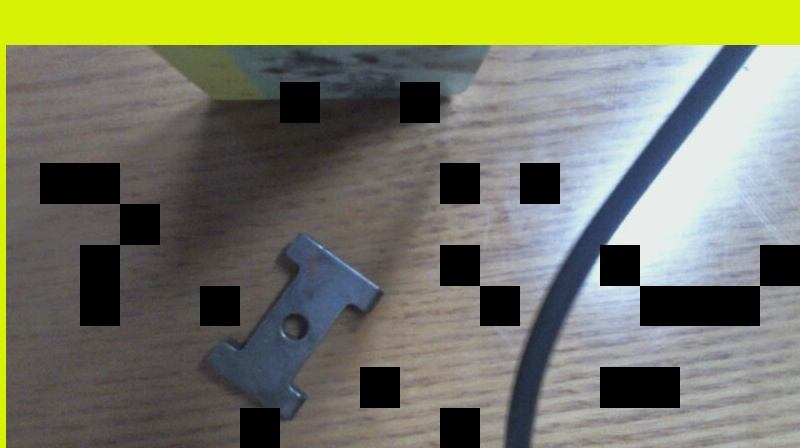O002: (197, 230, 388, 420)
